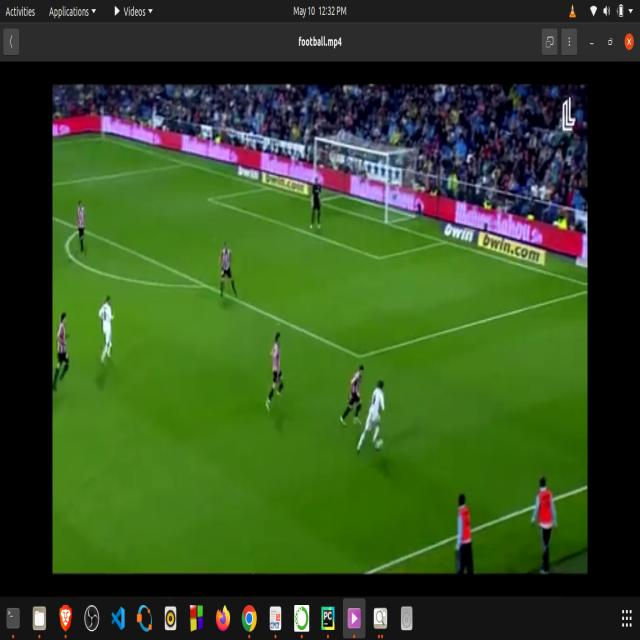Ball: (376, 432, 386, 459)
Goalkeeper: (308, 171, 327, 242)
football-players: (52, 311, 78, 401), (338, 357, 367, 431), (266, 328, 290, 416), (97, 289, 120, 375), (217, 236, 244, 309), (366, 376, 388, 460), (75, 193, 94, 257)
